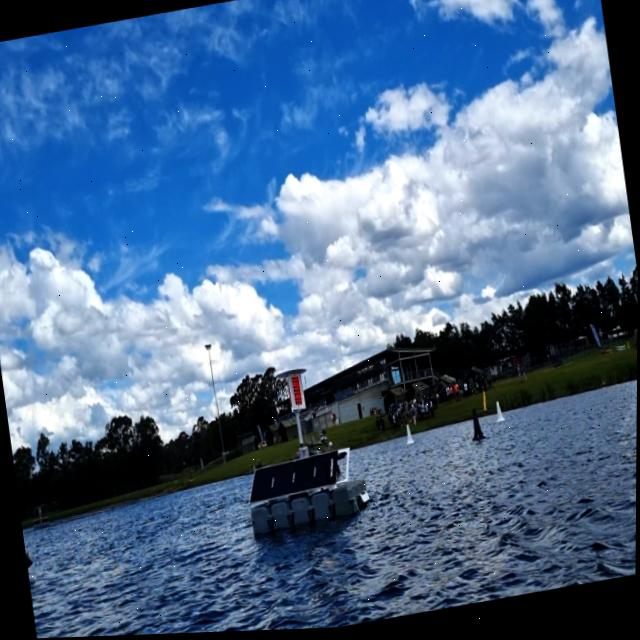led: (289, 375, 306, 412)
